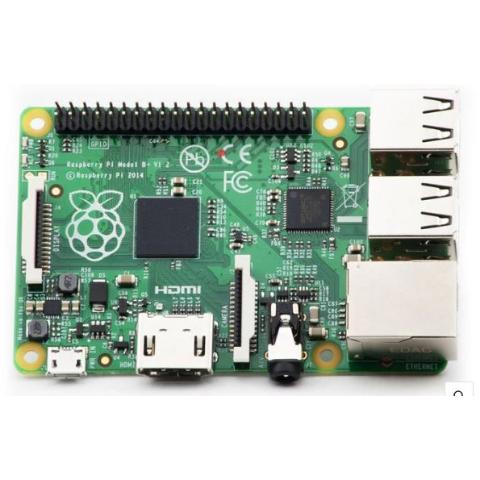Raspberry-Pi-1-Model-B-: (10, 84, 464, 388)
